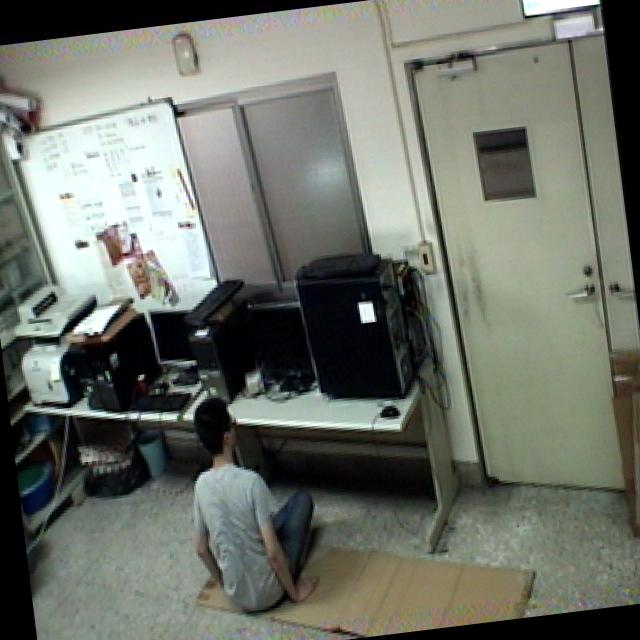sit: (170, 379, 334, 622)
